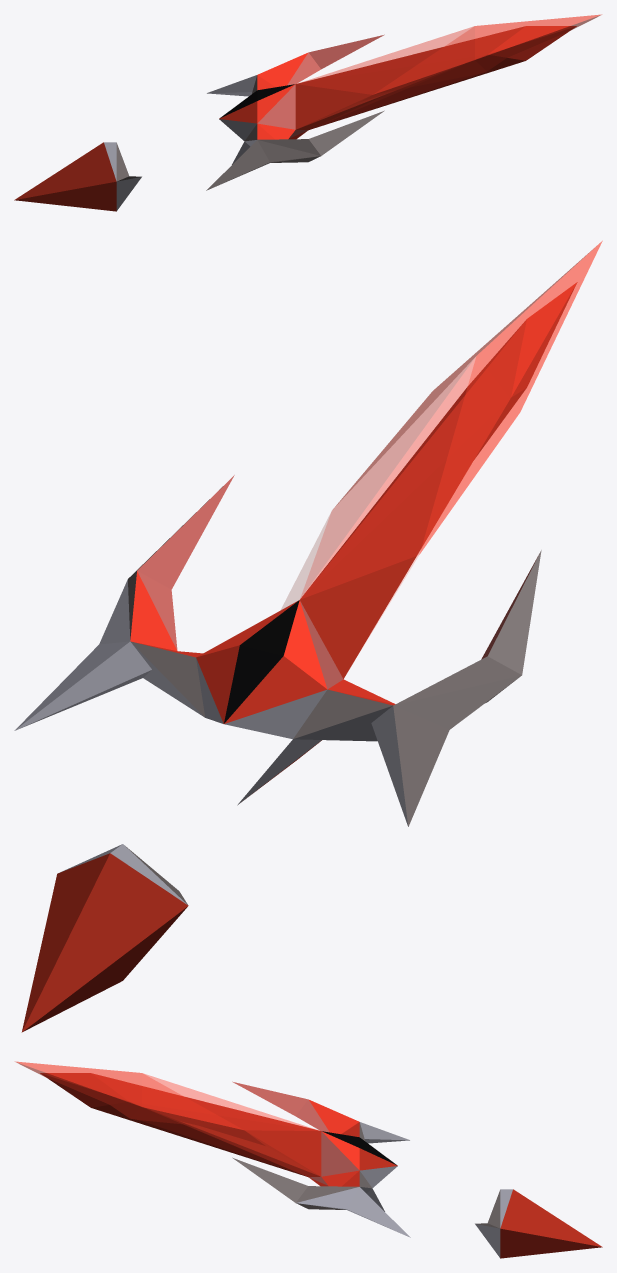
File: player_dragon_defender.glb
3 renders of one model, top to bottom at view 1: azimuth 90°, elevation 25°; view 2: azimuth 150°, elevation 25°; view 3: azimuth 270°, elevation 25°, orthographic. The views are drawn at different scales.
Bounding box in the file's own units: 18.02 × 16.99 × 46.
Materials: 2 (2 with a texture image).
